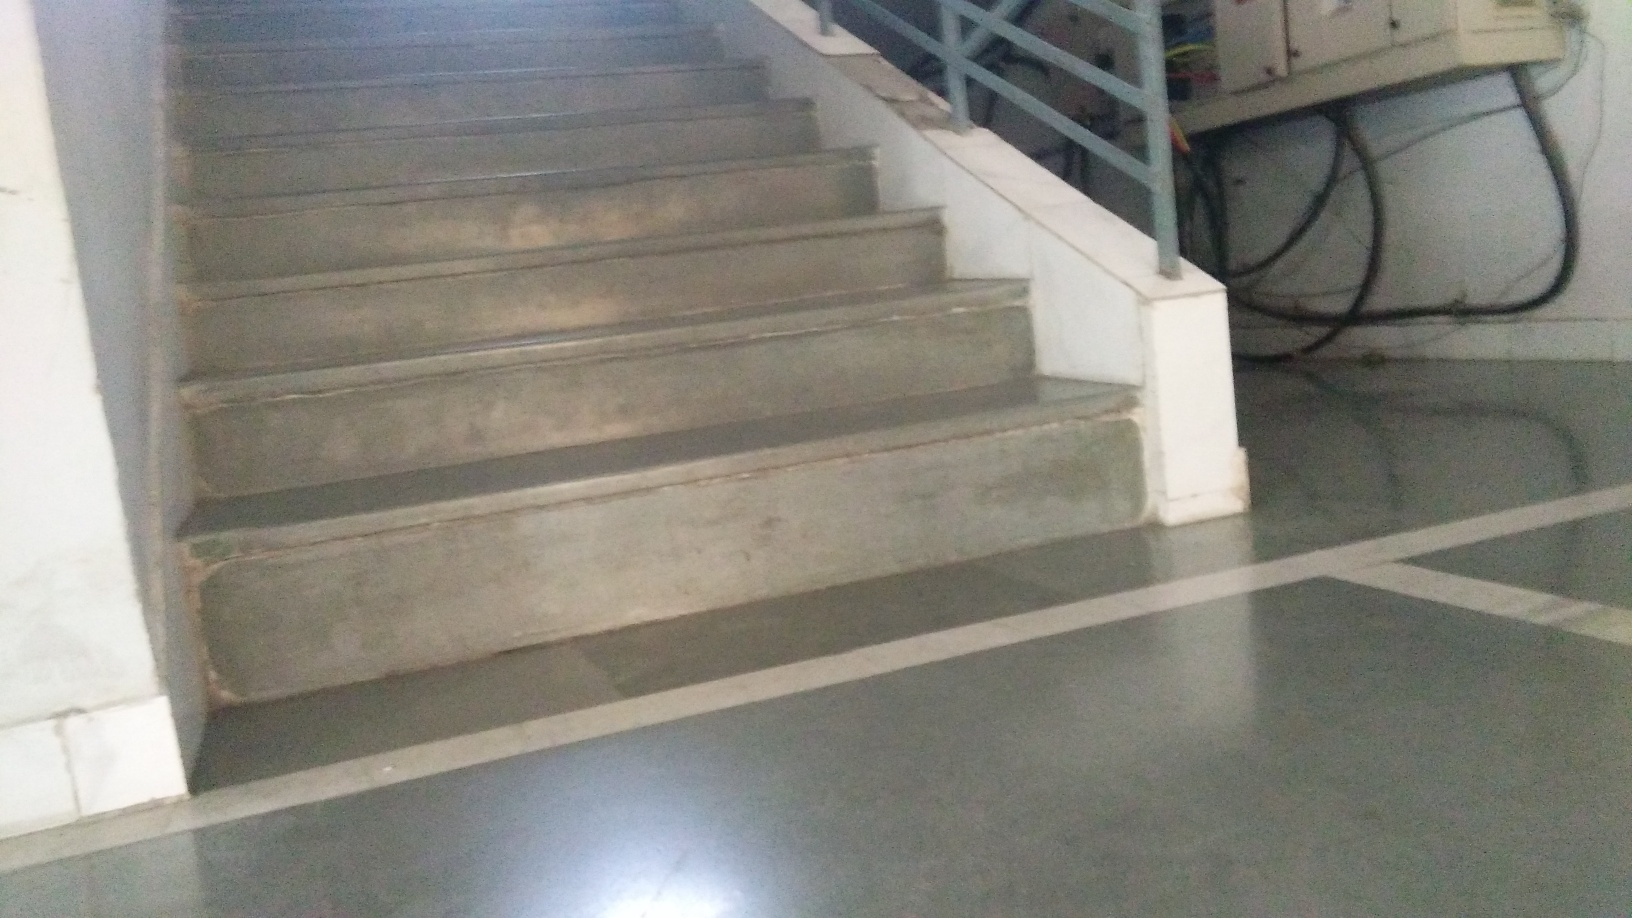stairs_up: (141, 6, 1152, 612)
